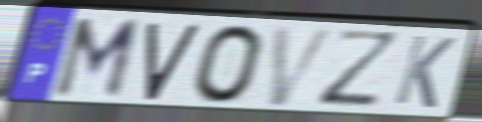K: (390, 32, 459, 112)
M: (49, 16, 145, 103)
O: (190, 22, 267, 106)
V: (265, 25, 340, 109), (142, 21, 204, 103)
Z: (314, 26, 405, 109)
